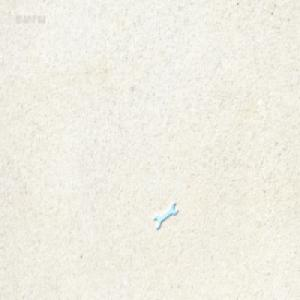Wrench: (153, 201, 178, 230)
